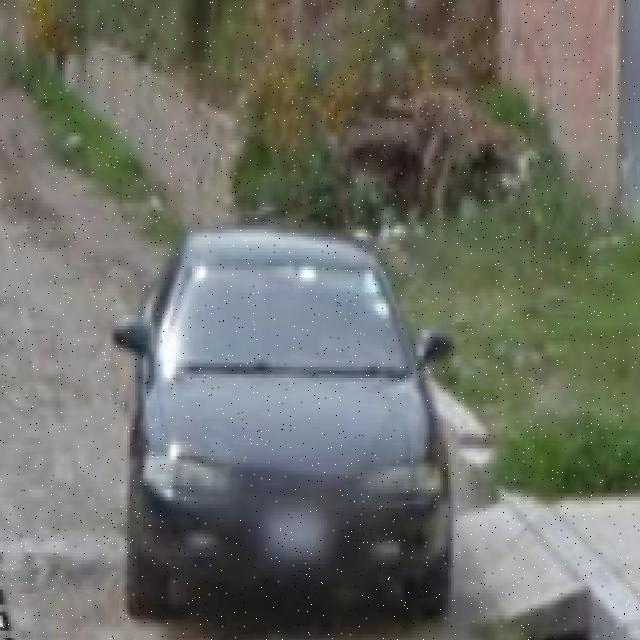car: (115, 225, 454, 604)
